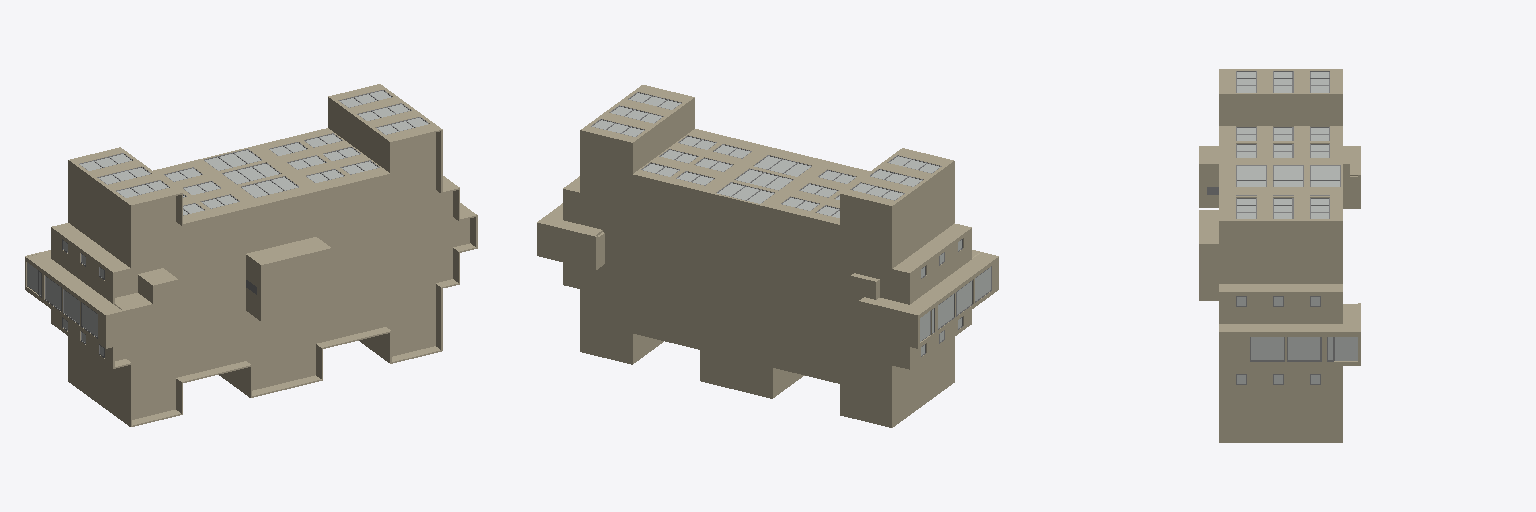
The model's file is BLIS_SmallOfficeBldg.obj.
3 renders of one model, left to right at view 1: azimuth 30°, elevation 25°; view 2: azimuth 150°, elevation 25°; view 3: azimuth 270°, elevation 25°, orthographic.
Visible parts, largest first — view 1: Slab-07, Wall-27, 01, Roof-01, Roof-03, Wall-33, 02, Slab-04, Roof-02; view 2: Slab-04, Wall-27, 01, Slab-03, Slab-02, 02, Wall-33, Slab-01, Slab-07; view 3: Wall-27, 01, 02, Slab-07, Wall-33, Wall-36, Slab-04, Slab-05, Slab-06, Wall-44, 59.
Boxes of the visible parts, x1,y1,x2,y2 form: Slab-07: [106, 124, 470, 422]; Wall-27: [26, 85, 469, 421]; 01: [62, 90, 428, 357]; Roof-01: [260, 247, 331, 321]; Roof-03: [104, 301, 163, 348]; Wall-33: [182, 169, 391, 225]; 02: [38, 270, 97, 338]; Slab-04: [51, 84, 380, 382]; Roof-02: [152, 279, 178, 303]; Slab-04: [563, 129, 910, 427]; Wall-27: [538, 90, 997, 426]; 01: [591, 92, 962, 356]; Slab-03: [537, 222, 597, 269]; Slab-02: [859, 300, 919, 348]; 02: [932, 266, 991, 333]; Wall-33: [690, 129, 869, 175]; Slab-01: [851, 275, 877, 299]; Slab-07: [636, 89, 965, 386]; Wall-27: [1201, 69, 1357, 442]; 01: [1236, 71, 1340, 384]; 02: [1250, 337, 1333, 361]; Slab-07: [1230, 69, 1232, 442]; Wall-33: [1219, 126, 1229, 195]; Wall-36: [1219, 221, 1229, 283]; Slab-04: [1341, 69, 1342, 442]; Slab-05: [1304, 69, 1305, 442]; Slab-06: [1267, 69, 1268, 442]; Wall-44: [1219, 389, 1229, 442]; 59: [1334, 337, 1357, 360].
Size of the model in its own units: 38.21 by 21.23 by 14.06.